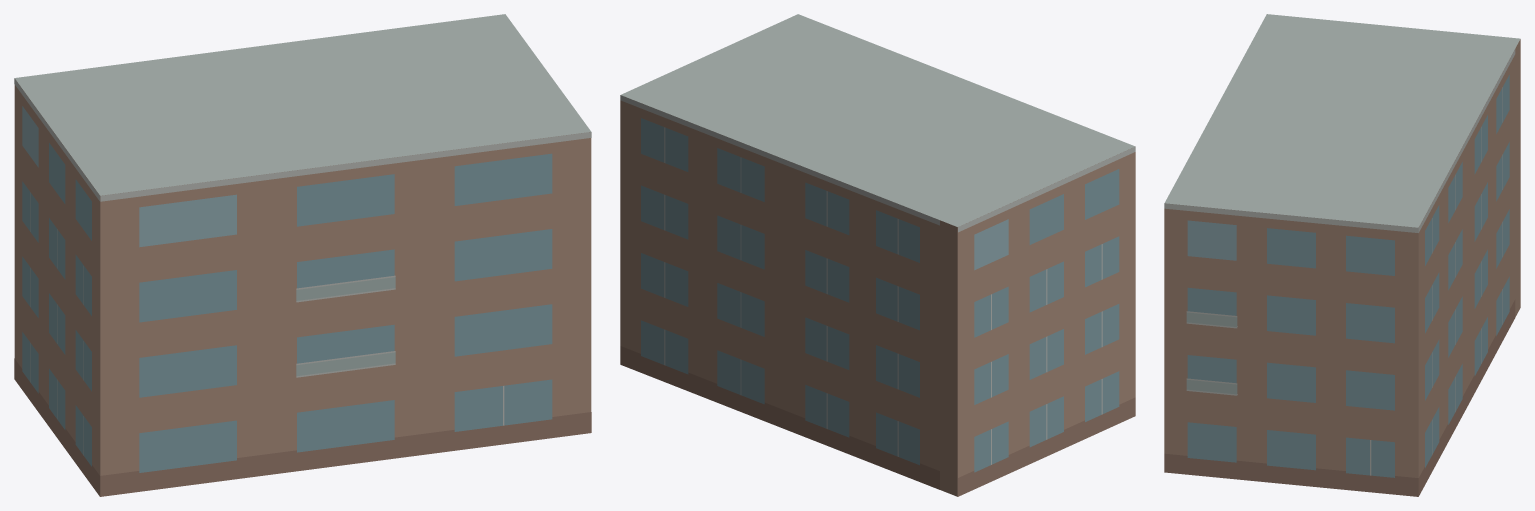
Rendered from residential-00efc6ca-e1f2-45c2-b368-ecb03e8f7a0d.glb.
3 renders of one model, left to right at view 1: azimuth 30°, elevation 25°; view 2: azimuth 150°, elevation 25°; view 3: azimuth 270°, elevation 25°, orthographic. The views are drawn at different scales.
Parts seen in each view (by area): view 1: residential-00efc6ca-e1f2-45c2-b368-ecb03e8f7a0d.tmp; view 2: residential-00efc6ca-e1f2-45c2-b368-ecb03e8f7a0d.tmp; view 3: residential-00efc6ca-e1f2-45c2-b368-ecb03e8f7a0d.tmp.
Boxes of the visible parts, <box> form: residential-00efc6ca-e1f2-45c2-b368-ecb03e8f7a0d.tmp: <box>14,14,591,496</box>; residential-00efc6ca-e1f2-45c2-b368-ecb03e8f7a0d.tmp: <box>620,14,1135,496</box>; residential-00efc6ca-e1f2-45c2-b368-ecb03e8f7a0d.tmp: <box>1164,14,1520,496</box>.
Size of the model in its own units: 20.79 by 12.2 by 14.65.
